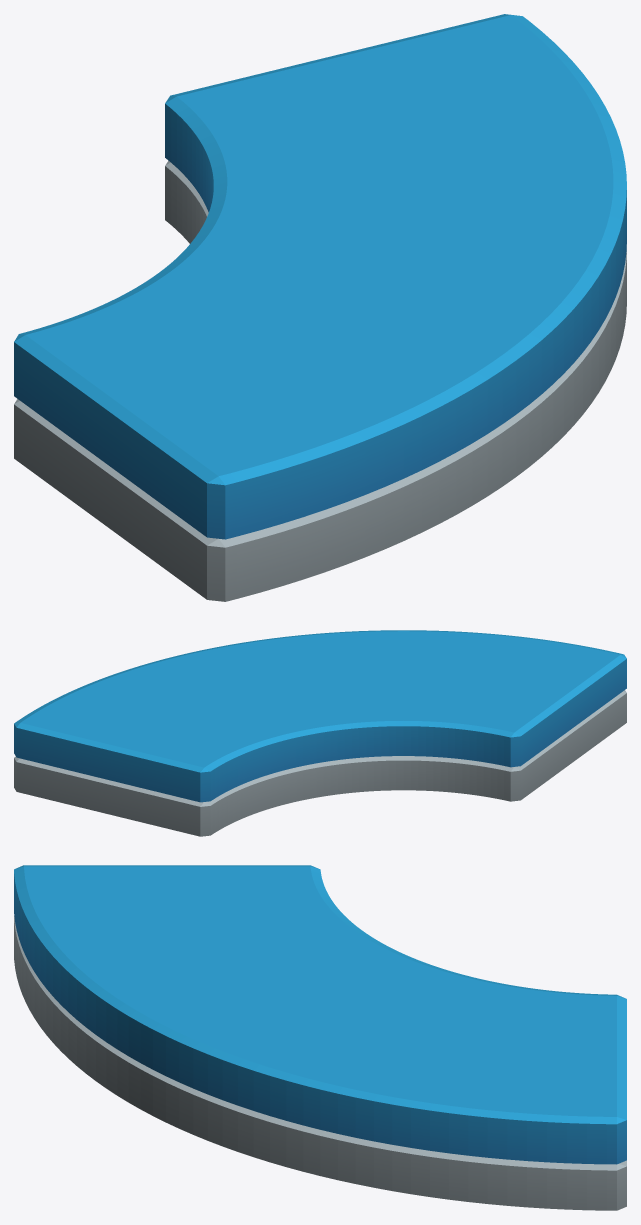
Rendered from kaykit_platform_quarter_curve_6x6x1_blue.glb.
3 renders of one model, top to bottom at view 1: azimuth 30°, elevation 25°; view 2: azimuth 150°, elevation 25°; view 3: azimuth 270°, elevation 25°, orthographic. The views are drawn at different scales.
Parts seen in each view (by area): view 1: kaykit_platform_quarter_curve_blue_visual; view 2: kaykit_platform_quarter_curve_blue_visual; view 3: kaykit_platform_quarter_curve_blue_visual.
Part boxes in pixels (box(x1,y1,x2,y2)): kaykit_platform_quarter_curve_blue_visual: box(14, 14, 626, 601); kaykit_platform_quarter_curve_blue_visual: box(14, 630, 626, 836); kaykit_platform_quarter_curve_blue_visual: box(14, 865, 626, 1210).
Size of what is drawn, in the model's own units: 6 by 1 by 6.
1 material, 1 textured.
